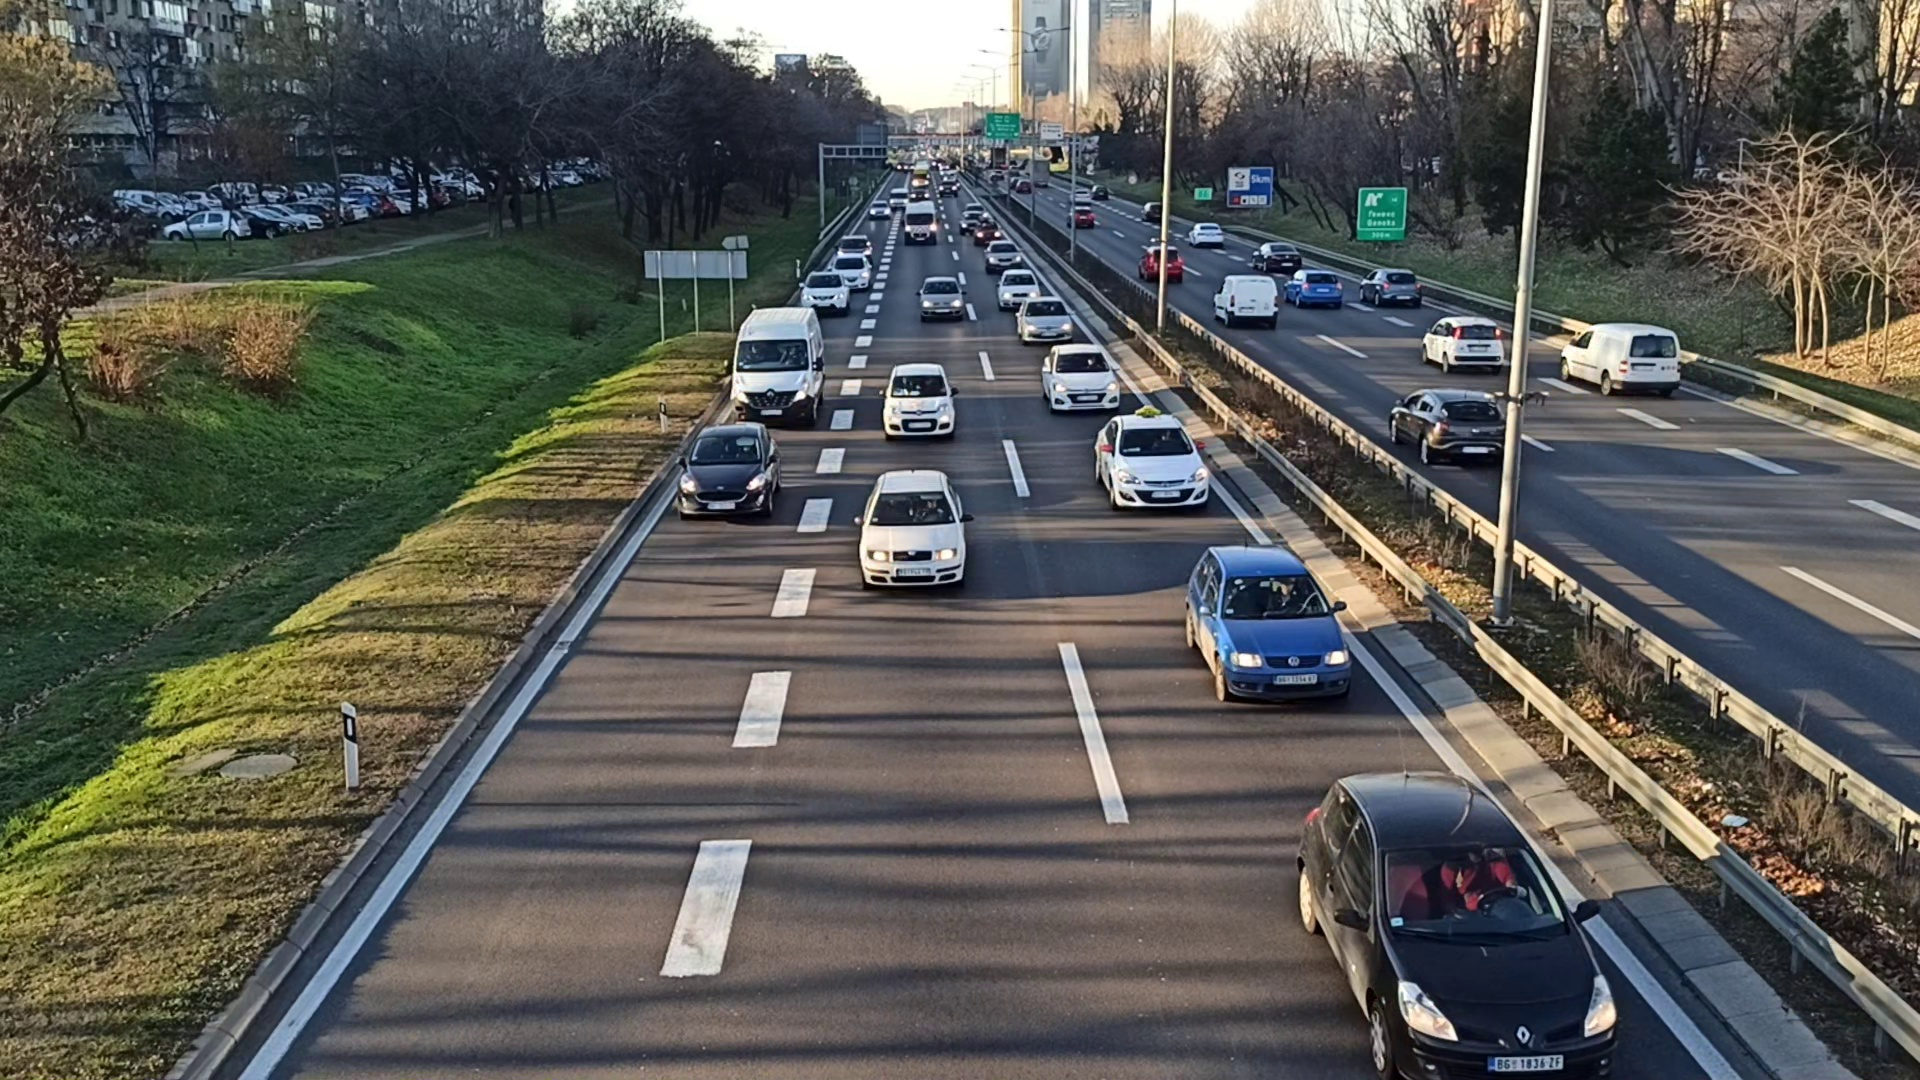car: (1287, 769, 1617, 1080), (1185, 545, 1350, 709), (856, 469, 967, 589), (1095, 414, 1208, 513), (678, 423, 782, 520), (1390, 388, 1509, 464), (884, 363, 955, 439), (1040, 343, 1117, 413), (1420, 316, 1505, 369), (1015, 297, 1069, 343), (1360, 269, 1420, 309), (796, 270, 848, 315), (1284, 272, 1344, 307), (920, 277, 967, 318), (997, 272, 1038, 310), (1139, 245, 1183, 280), (833, 258, 873, 291), (1192, 222, 1220, 244)
van: (735, 305, 827, 429), (1559, 319, 1681, 400), (1215, 274, 1280, 327), (899, 202, 938, 247)
